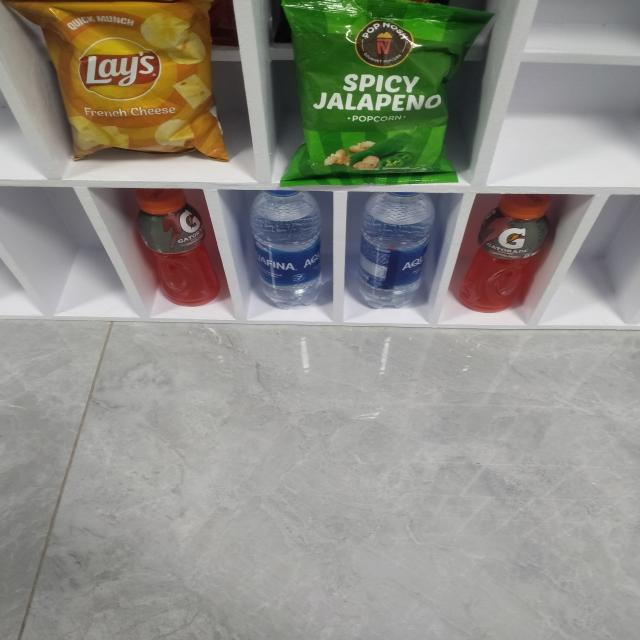Plastic: (276, 2, 487, 187), (26, 5, 232, 162), (128, 188, 220, 308), (463, 195, 555, 312), (352, 192, 440, 305), (250, 192, 325, 309)
